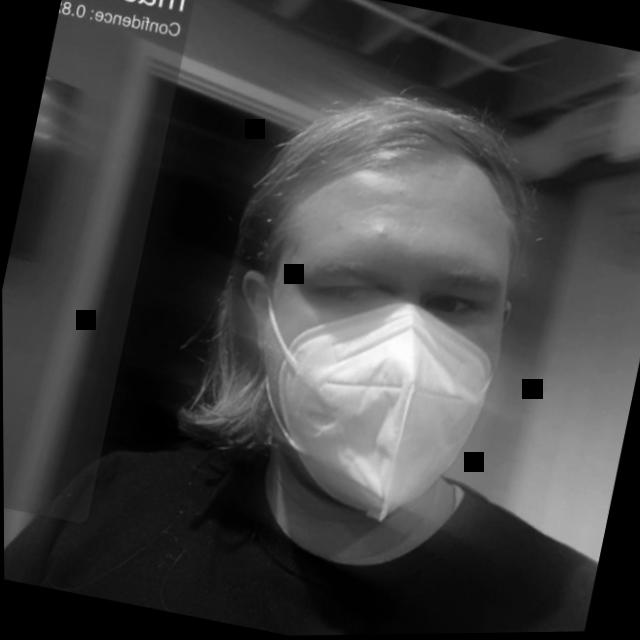Mask: (141, 66, 584, 613)
